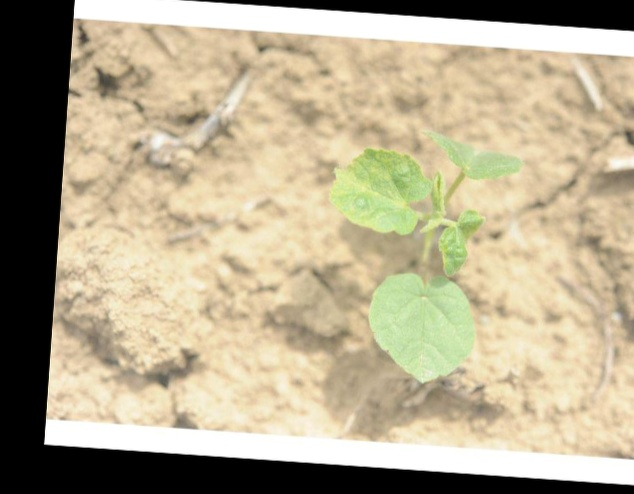velvet: (325, 130, 514, 383)
